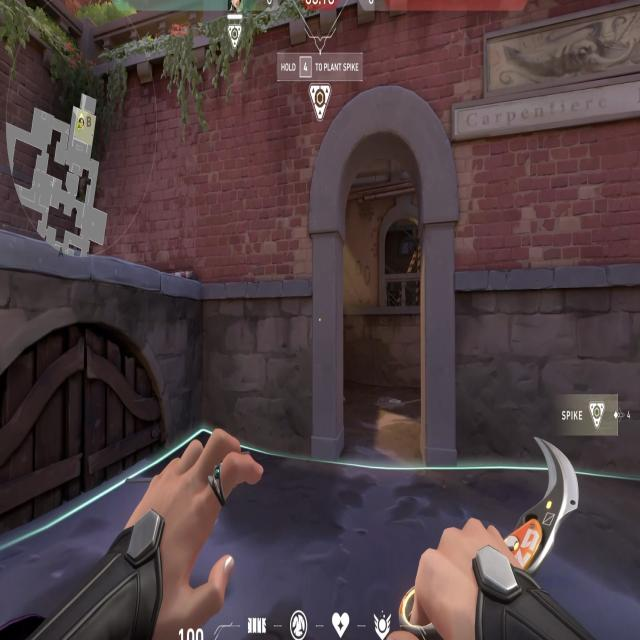B_Boathouse: (302, 80, 468, 468)
